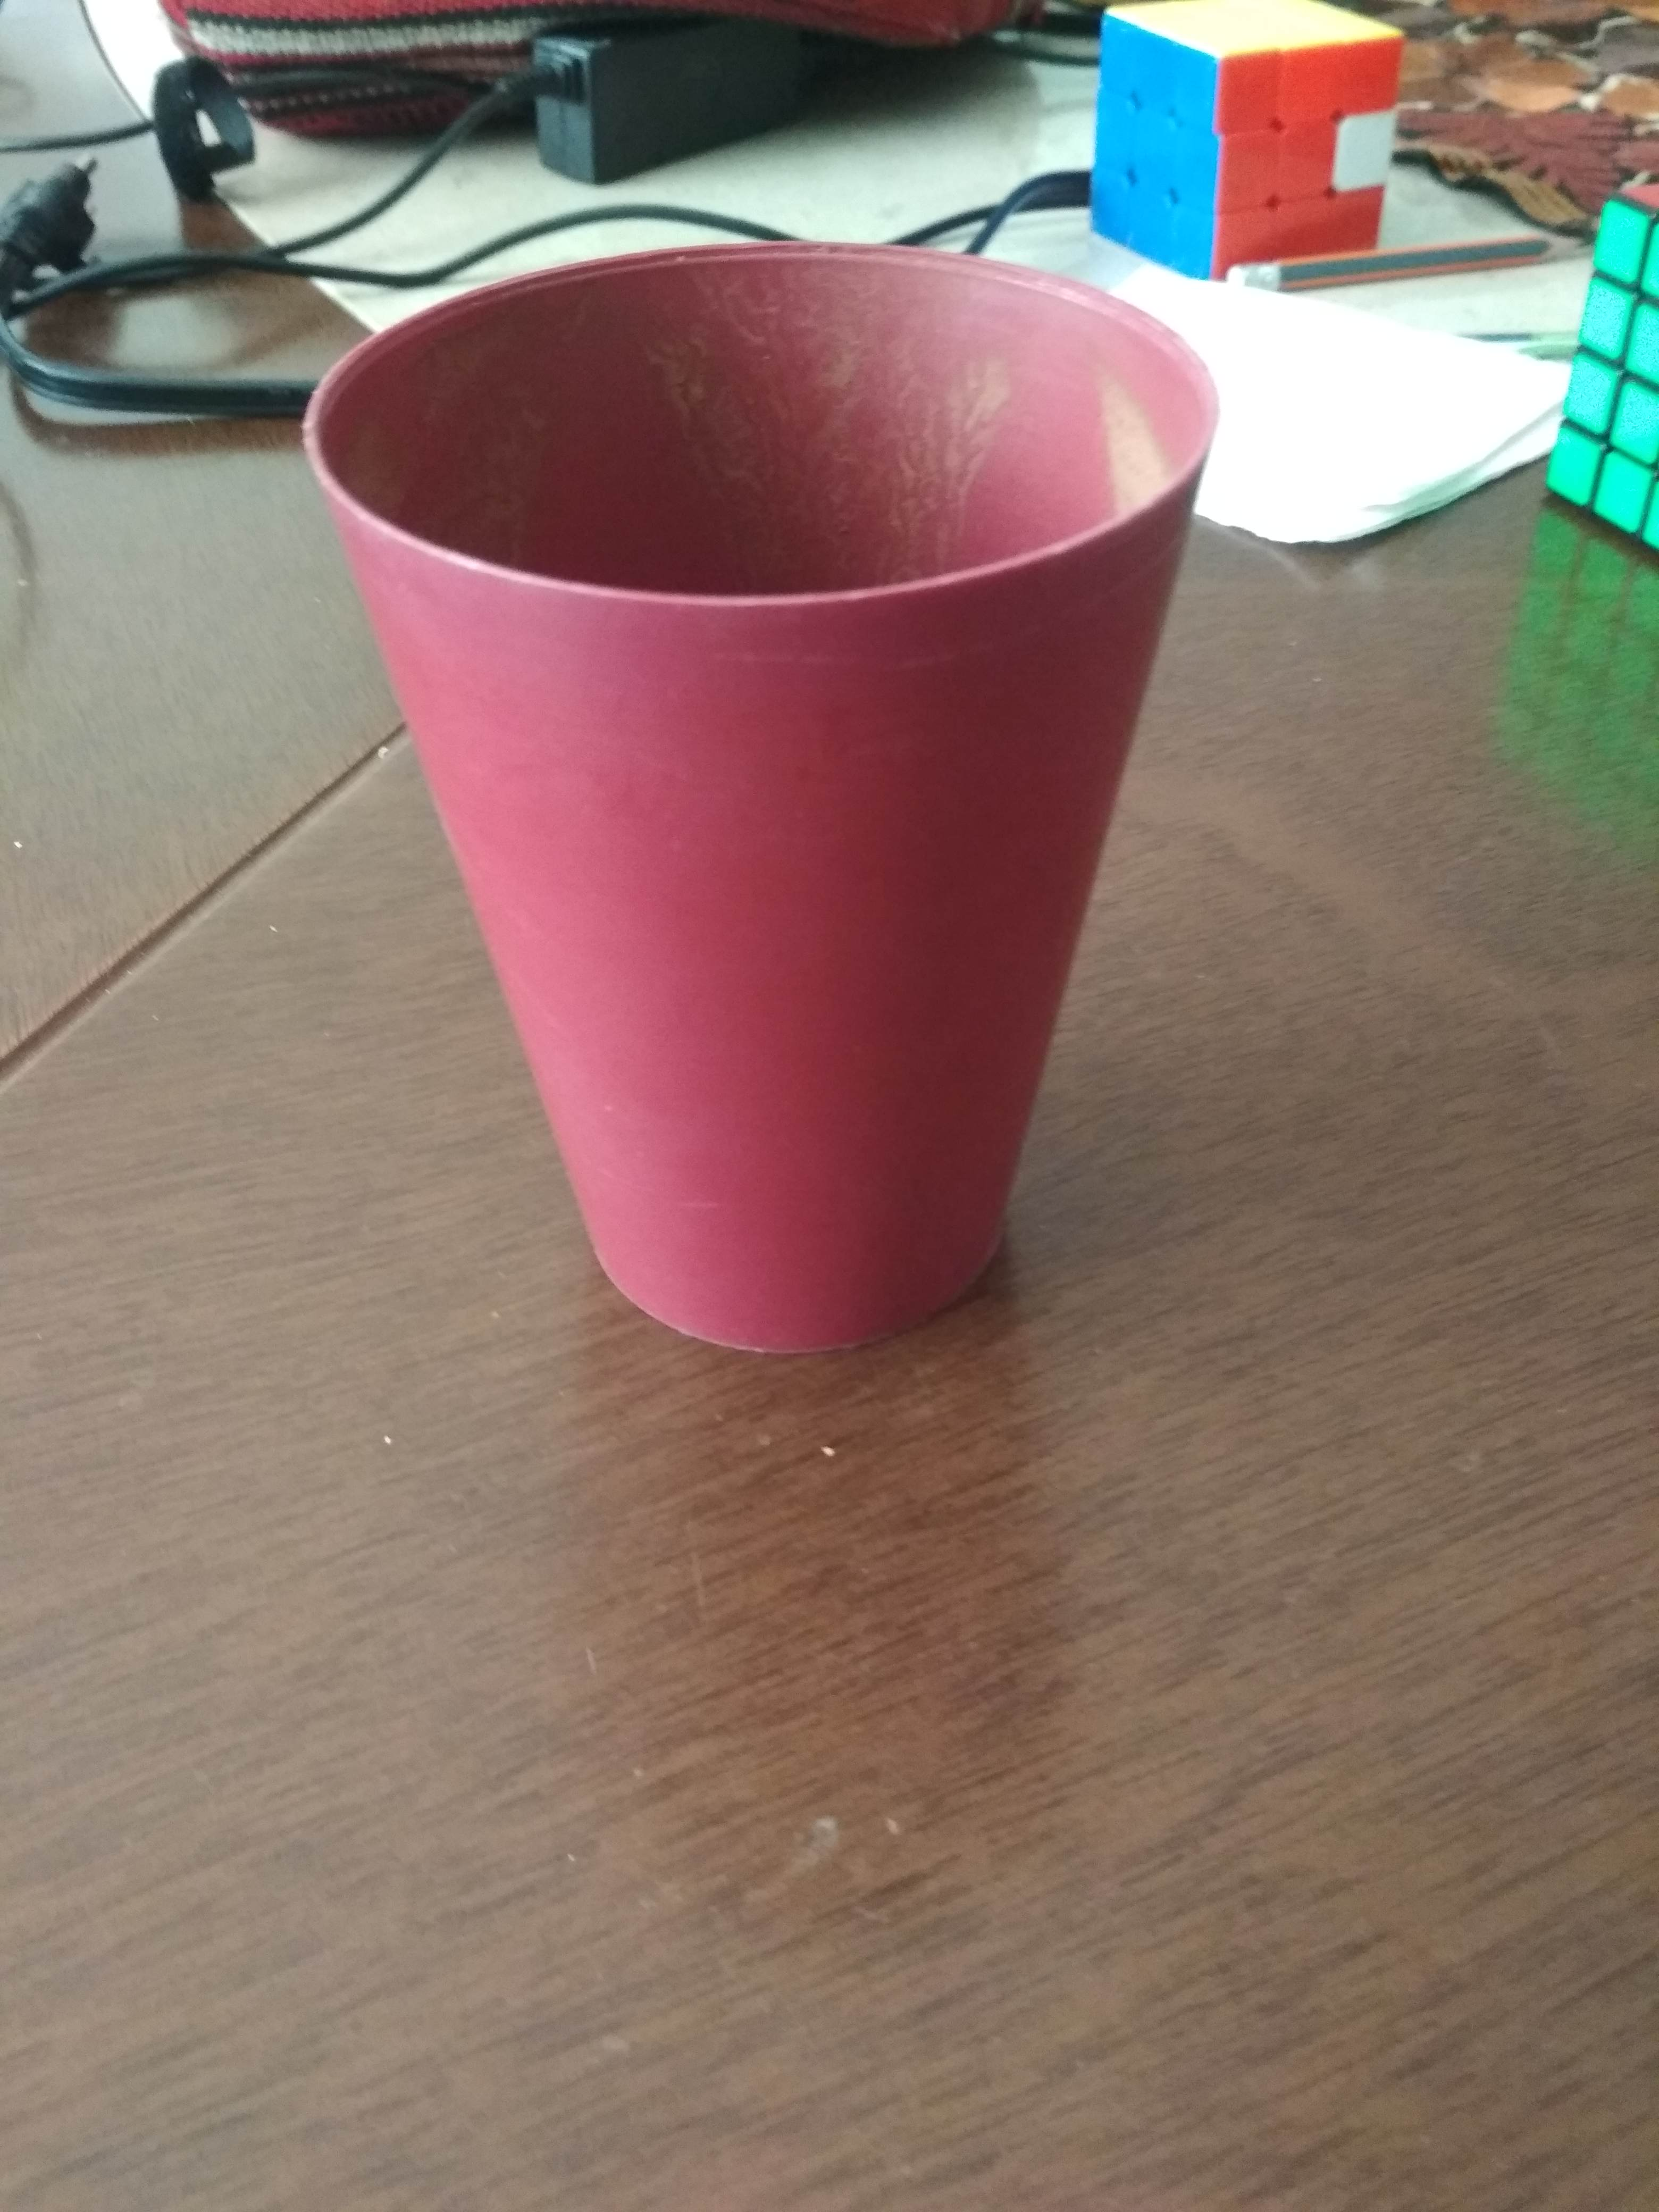glass: (274, 214, 1253, 1395)
rubik_cube: (1070, 0, 1413, 296), (1527, 171, 1659, 590)
